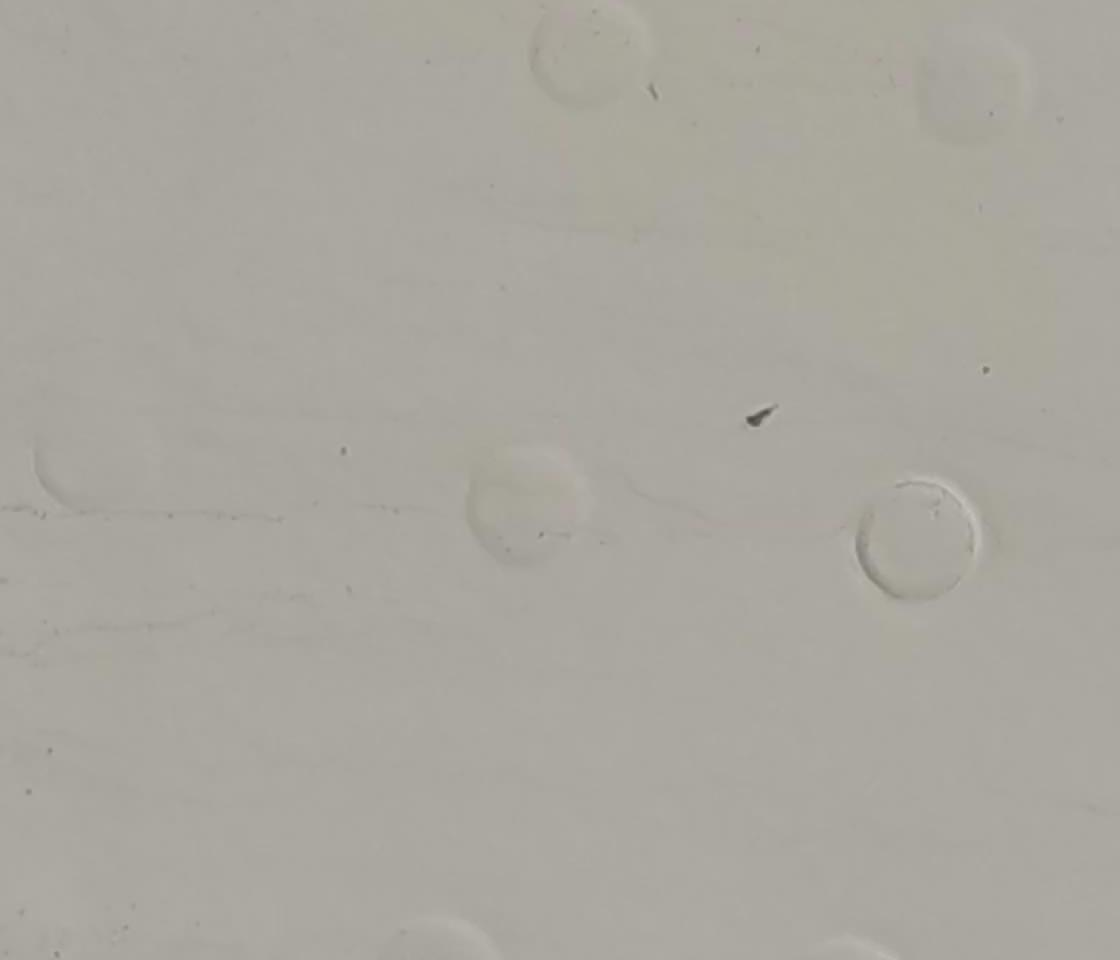paint_peel: (738, 402, 784, 431)
